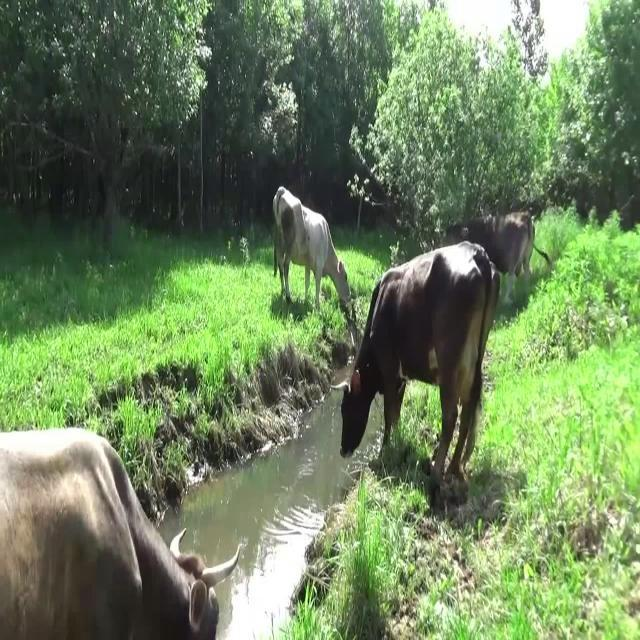cow: (0, 429, 238, 640), (341, 241, 499, 510), (272, 186, 350, 306), (448, 211, 552, 279)
